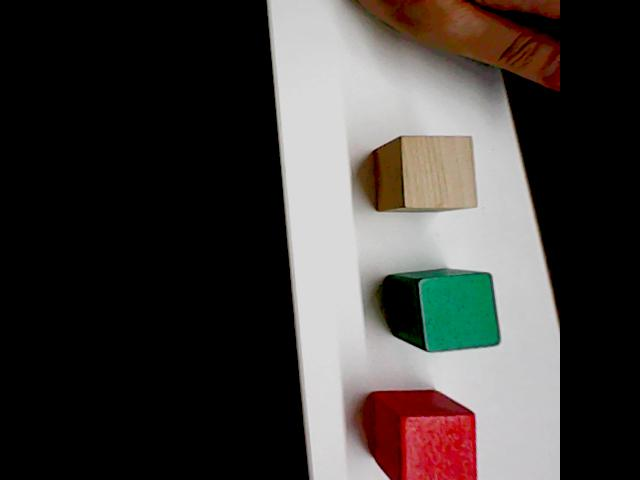green_box: (383, 265, 504, 355)
raw_box: (370, 131, 481, 215)
red_box: (367, 386, 482, 480)
